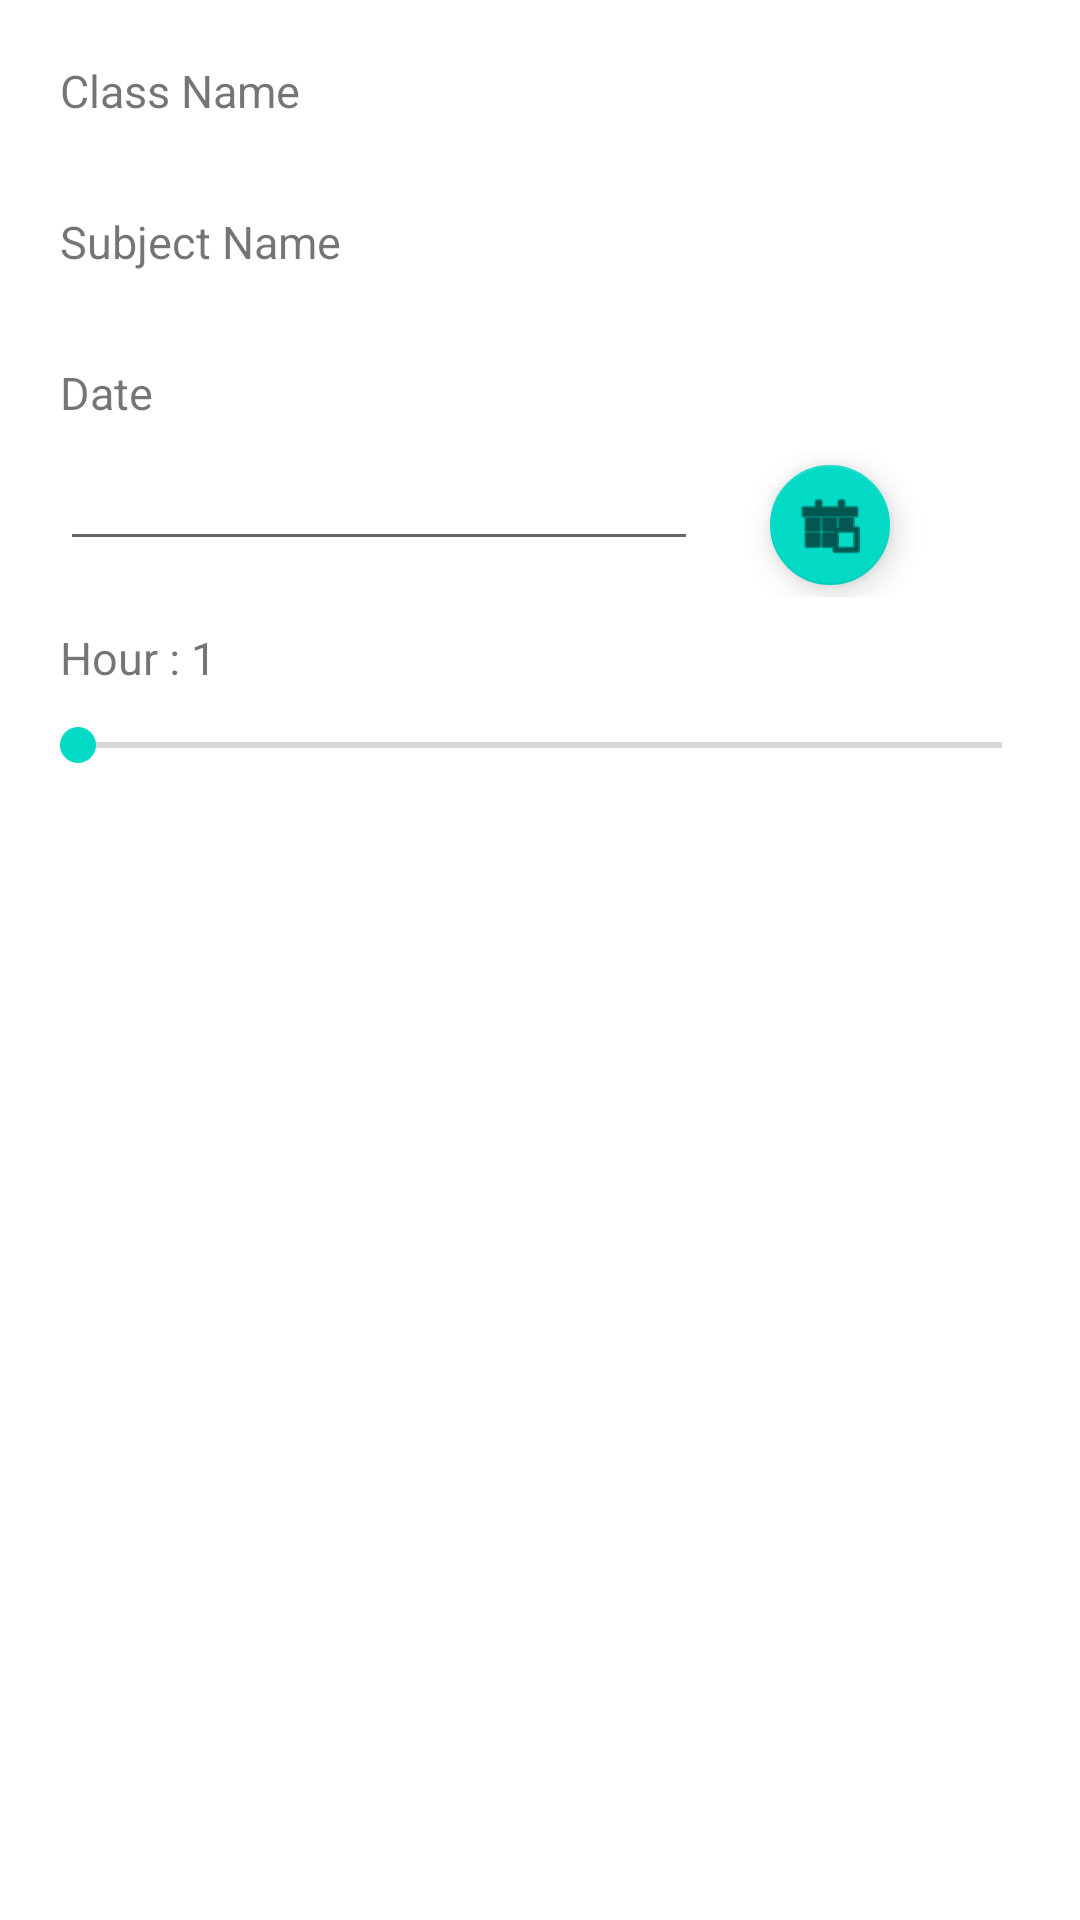

Point at icon controls on the screen. Image size 1080px×1920px, points as (x,y).
today: (830,526)
